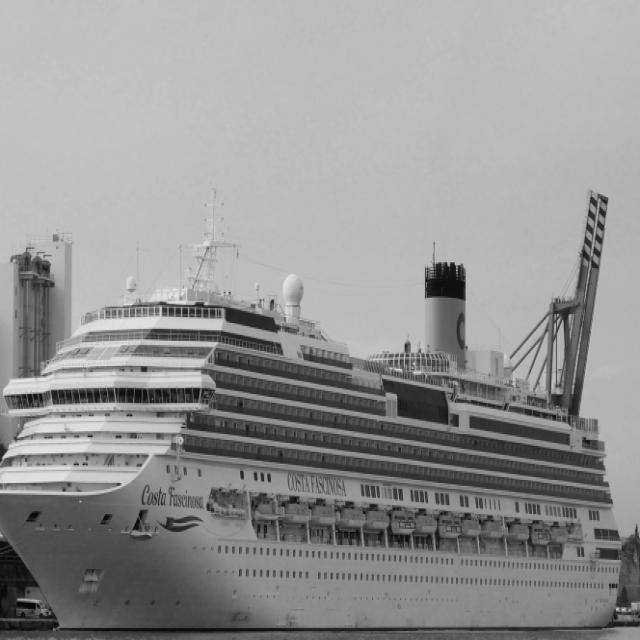cruises: (1, 179, 622, 638)
